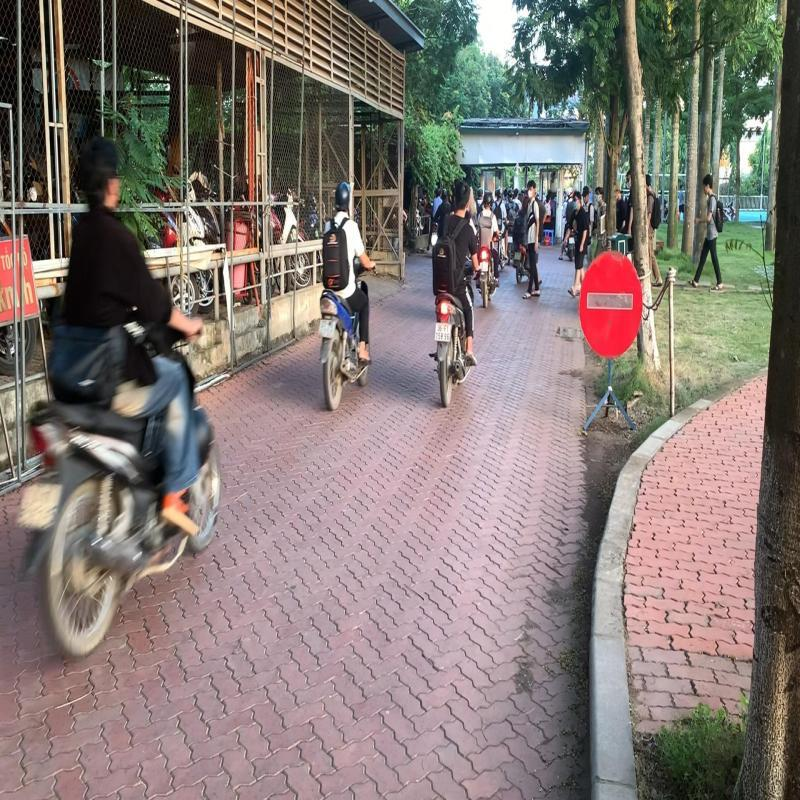licenseplate: (435, 321, 451, 341)
motorcyclist: (428, 178, 481, 411)
nohelmet: (455, 181, 470, 212)
